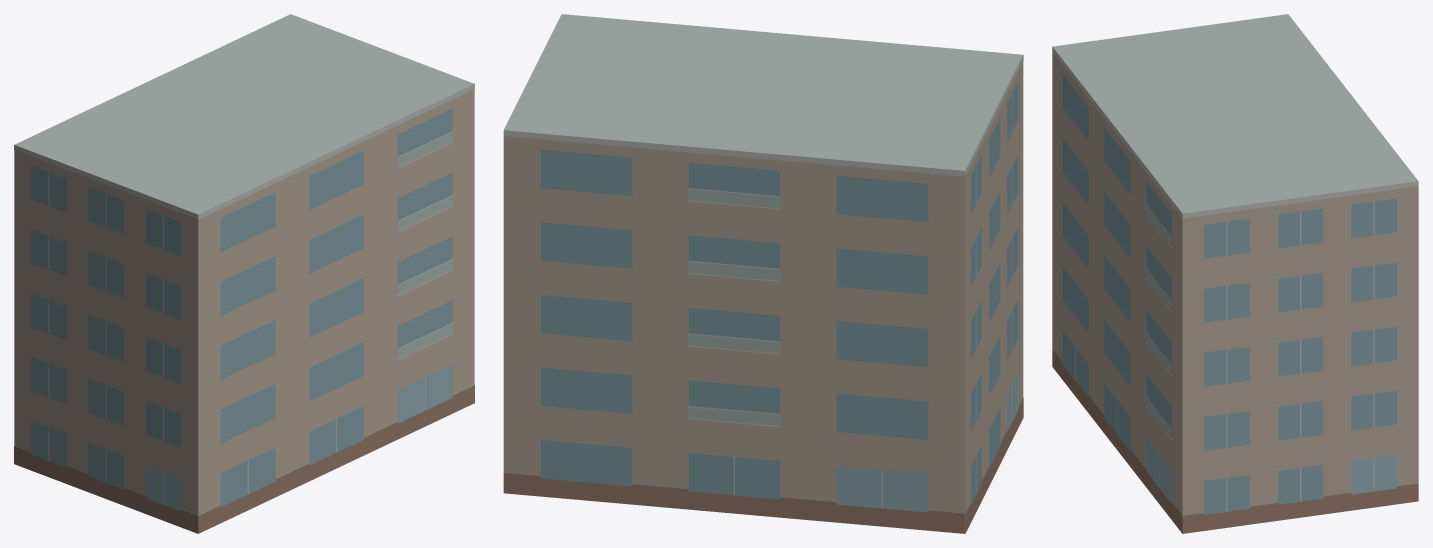
The model's file is survey-upis-32612269.glb.
3 views of the same model, side by side, from view 1: azimuth 30°, elevation 25°; view 2: azimuth 150°, elevation 25°; view 3: azimuth 270°, elevation 25° (orthographic). The views are drawn at different scales.
Visible parts, largest first — view 1: survey-upis-32612269.tmp; view 2: survey-upis-32612269.tmp; view 3: survey-upis-32612269.tmp.
Part boxes in pixels (left/top/right/bottom): survey-upis-32612269.tmp: left=14, top=14, right=474, bottom=533; survey-upis-32612269.tmp: left=503, top=14, right=1023, bottom=533; survey-upis-32612269.tmp: left=1052, top=14, right=1418, bottom=533.
Size of the model in its own units: 20.4 by 15.25 by 15.81.
